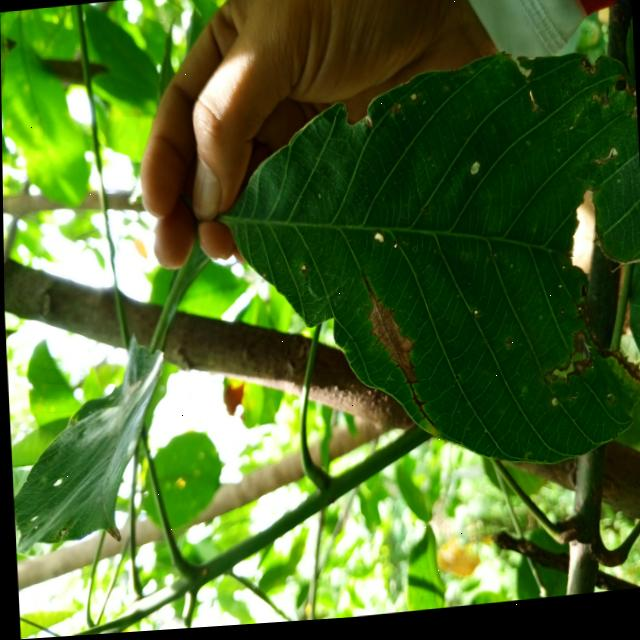Colletotrichum: (468, 165, 481, 182), (559, 316, 563, 322), (556, 291, 560, 295), (561, 272, 564, 276)
Corynespora: (359, 270, 437, 440), (578, 289, 585, 307)
Leaf-Blight: (607, 257, 640, 278), (606, 155, 616, 165)
